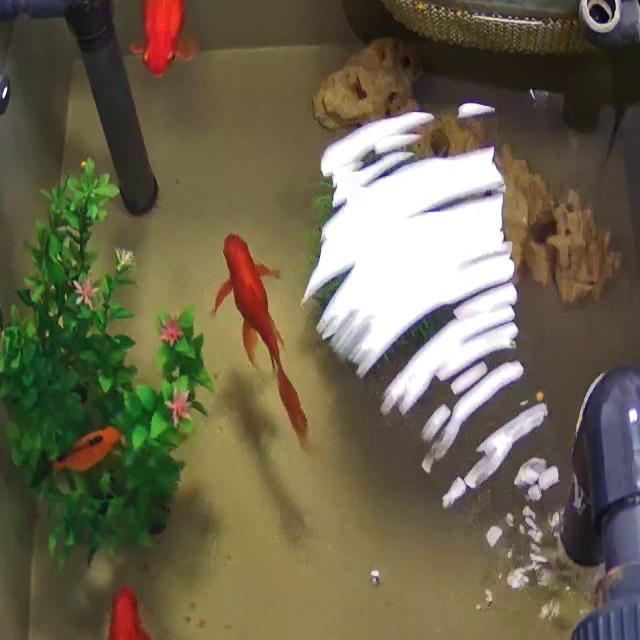fish: (198, 198, 325, 452), (41, 414, 131, 492), (130, 0, 202, 85), (96, 572, 174, 640)
